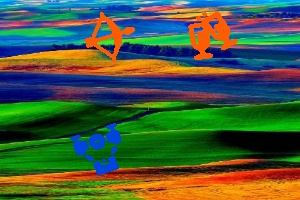弓箭: (86, 11, 134, 61)
弹弓: (69, 124, 125, 174)
碰杯: (189, 13, 237, 58)
